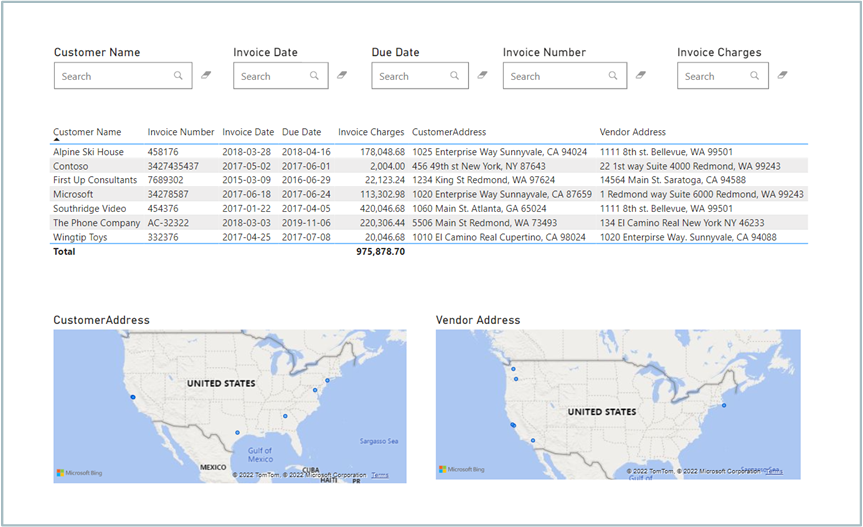

What the dashboard file says about the page in this screenshot:
{"tool":"powerbi","page":{"name":"Overview","canvas":[1280,720],"ordinal":0},"visuals":[{"type":"tableEx","fields":{"Values":["fieldlistcustom.CustomerName","fieldlistcustom.InvoiceNumber","fieldlistcustom.InvoiceDate","fieldlistcustom.DueDate","Sum(fieldlistcustom.InvoiceCharges)","fieldlistcustom.CustomerAddress","fieldlistcustom.VendorAddress"]},"box":[0,184,1302.8,212],"z":0},{"type":"map","fields":{"Category":["fieldlistcustom.CustomerAddress"]},"box":[49.9,441.6,507.3,245.3],"z":1000},{"type":"map","fields":{"Category":["fieldlistcustom.VendorAddress"]},"box":[587.9,441.6,523.9,240.1],"z":2000},{"type":"textFilter25A4896A83E0487089E2B90C9AE57C8A","fields":{"field":["fieldlistcustom.CustomerName"]},"box":[50.6,65.2,243.5,73.2],"z":3000},{"type":"actionButton","box":[0,0,100,40],"z":4000},{"type":"textFilter25A4896A83E0487089E2B90C9AE57C8A","fields":{"field":["fieldlistcustom.DueDate"]},"box":[497.6,64.8,184.9,73.6],"z":5000},{"type":"textFilter25A4896A83E0487089E2B90C9AE57C8A","fields":{"field":["fieldlistcustom.InvoiceNumber"]},"box":[682.5,64.8,223.4,73.6],"z":6000},{"type":"textFilter25A4896A83E0487089E2B90C9AE57C8A","fields":{"field":["fieldlistcustom.InvoiceCharges"]},"box":[927.8,64.8,177,73.6],"z":7000},{"type":"textFilter25A4896A83E0487089E2B90C9AE57C8A","fields":{"field":["fieldlistcustom.InvoiceDate"]},"box":[303.1,64.8,182.2,73.6],"z":8000}]}

Visuals, with their boxes on the page's 1280x720 design canvas (x1, y1, x2, y2). These are canvas units, not pixel positions in the 863x527 screenshot, which may show the page scaled, cropped or inside an application window:
tableEx - fieldlistcustom.CustomerName x fieldlistcustom.InvoiceNumber: pyautogui.locateOnScreen(0, 184, 1303, 396)
map - fieldlistcustom.CustomerAddress: pyautogui.locateOnScreen(50, 442, 557, 687)
map - fieldlistcustom.VendorAddress: pyautogui.locateOnScreen(588, 442, 1112, 682)
textFilter25A4896A83E0487089E2B90C9AE57C8A - fieldlistcustom.CustomerName: pyautogui.locateOnScreen(51, 65, 294, 138)
actionButton: pyautogui.locateOnScreen(0, 0, 100, 40)
textFilter25A4896A83E0487089E2B90C9AE57C8A - fieldlistcustom.DueDate: pyautogui.locateOnScreen(498, 65, 682, 138)
textFilter25A4896A83E0487089E2B90C9AE57C8A - fieldlistcustom.InvoiceNumber: pyautogui.locateOnScreen(682, 65, 906, 138)
textFilter25A4896A83E0487089E2B90C9AE57C8A - fieldlistcustom.InvoiceCharges: pyautogui.locateOnScreen(928, 65, 1105, 138)
textFilter25A4896A83E0487089E2B90C9AE57C8A - fieldlistcustom.InvoiceDate: pyautogui.locateOnScreen(303, 65, 485, 138)
